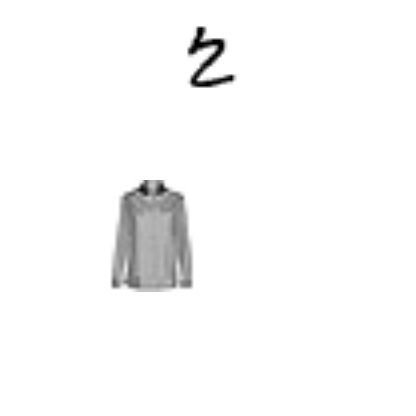0: (95, 323, 179, 407)
3: (298, 279, 354, 335), (30, 87, 44, 101)
5: (132, 207, 188, 263)
Ankle_boot: (246, 241, 274, 269)
Dress: (132, 264, 146, 278)
Pullover: (220, 281, 242, 303)
Sandal: (8, 342, 36, 370)
T-shirt/top: (212, 131, 254, 173)
